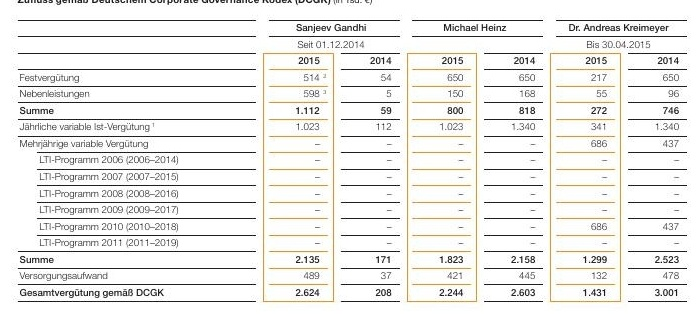table: (0, 0, 699, 314)
